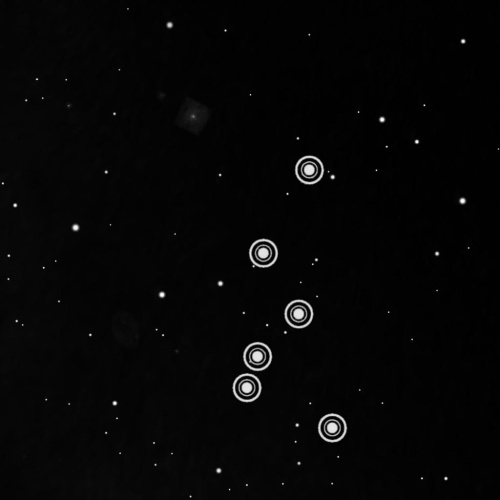cassiopeia: (226, 150, 352, 451)
